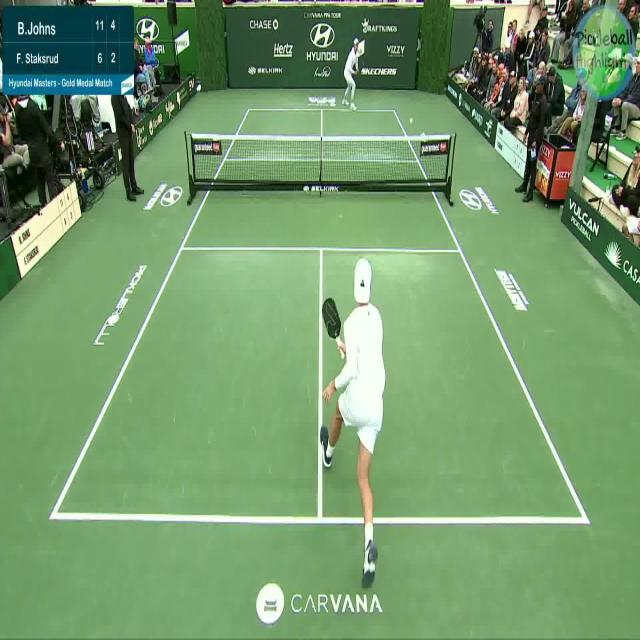ball: (410, 117, 414, 124)
